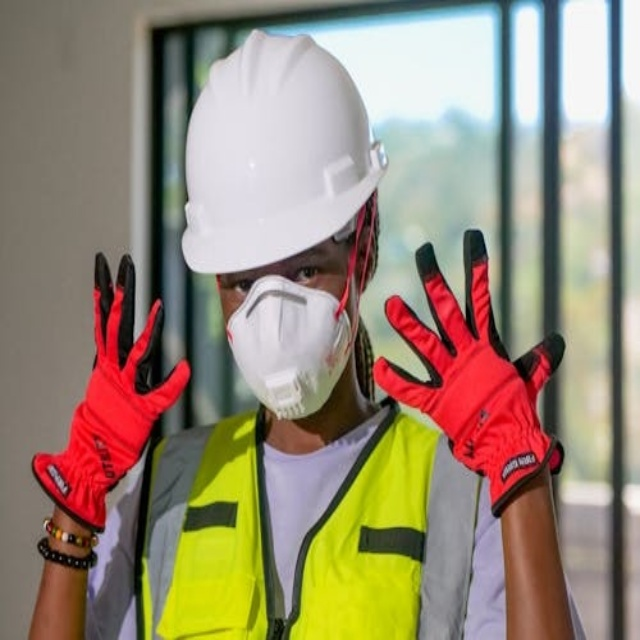Guantes: (371, 225, 568, 517), (32, 247, 193, 534)
Mascara: (223, 238, 361, 421)
Sin_gafas: (228, 244, 329, 309)
